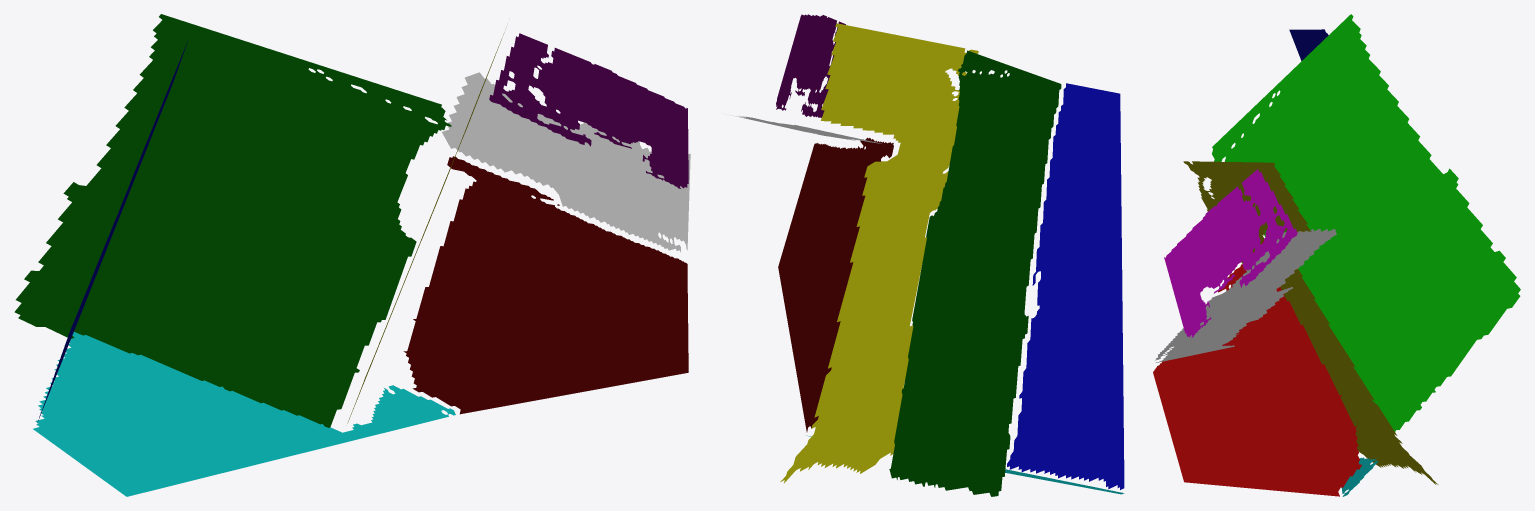
The model's file is 516_seg_GTplane.glb.
3 renders of one model, left to right at view 1: azimuth 30°, elevation 25°; view 2: azimuth 150°, elevation 25°; view 3: azimuth 270°, elevation 25°, orthographic. The views are drawn at different scales.
Size of the model in its own units: 1.74 by 1.41 by 1.26.
